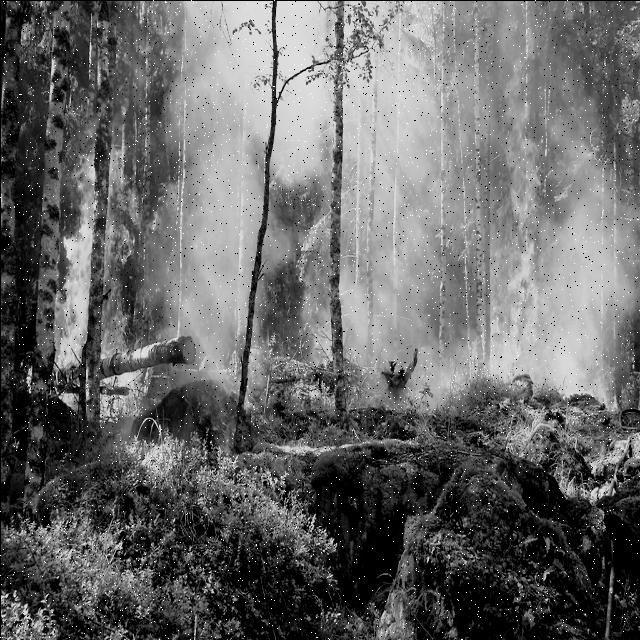api: (492, 92, 546, 390), (43, 151, 101, 401), (102, 157, 138, 353), (99, 374, 150, 424), (584, 356, 624, 410)
asap: (166, 31, 256, 336), (549, 138, 640, 355), (340, 213, 452, 357), (412, 347, 464, 413)
